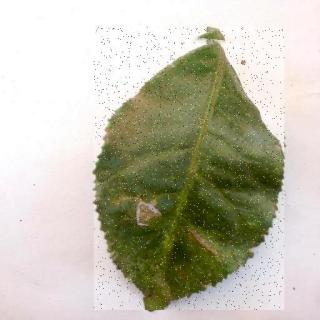Algal Leaf: (95, 28, 286, 311)
